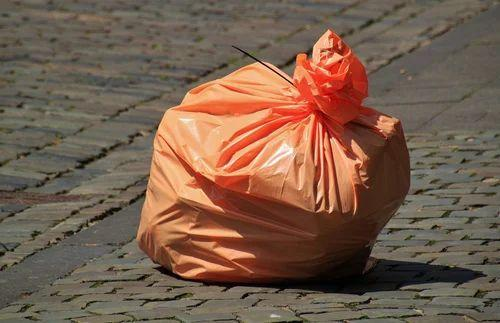trash: (137, 30, 409, 283)
